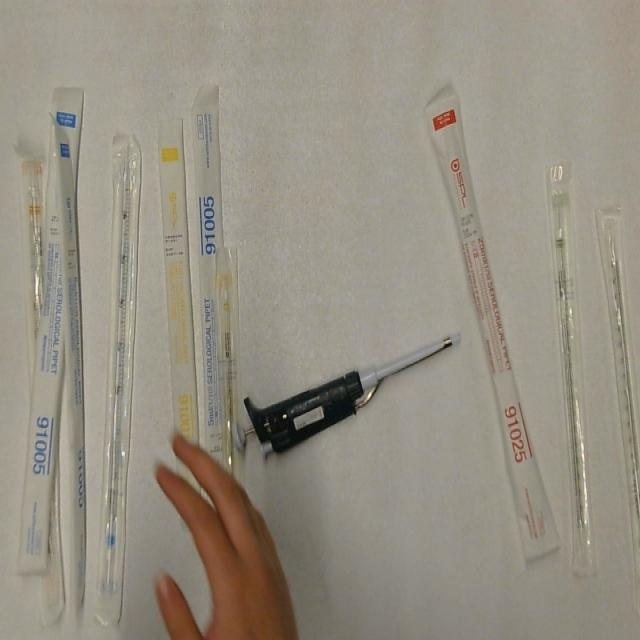Serelogical Pipet 1 mL - Sealed: (152, 112, 204, 532)
Serelogical Pipet 10 mL - Sealed: (19, 148, 50, 390)
Serelogical Pipet 2 mL - Sealed: (544, 159, 598, 582)
Serelogical Pipet 25 mL - Sealed: (422, 83, 560, 569)
Serelogical Pipet 5 mL - Sealed: (13, 80, 87, 580), (90, 131, 147, 631), (190, 83, 239, 476), (50, 113, 88, 613)
Single Channel Pipettor: (227, 328, 464, 456)
